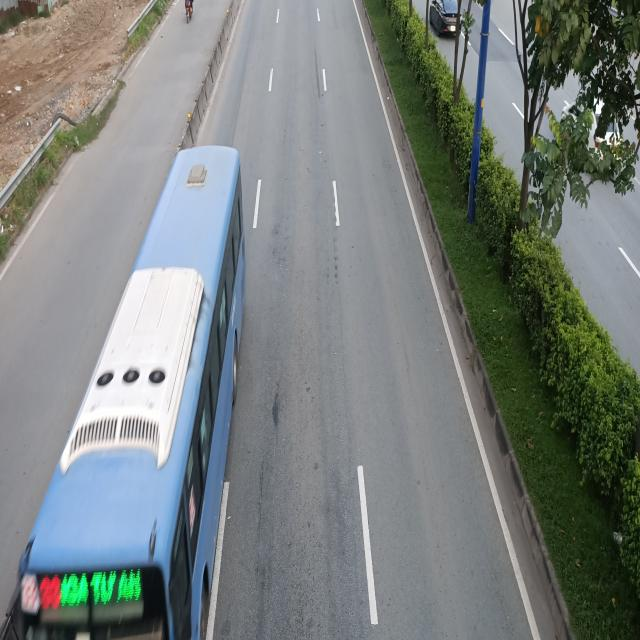coach: (11, 141, 246, 640)
